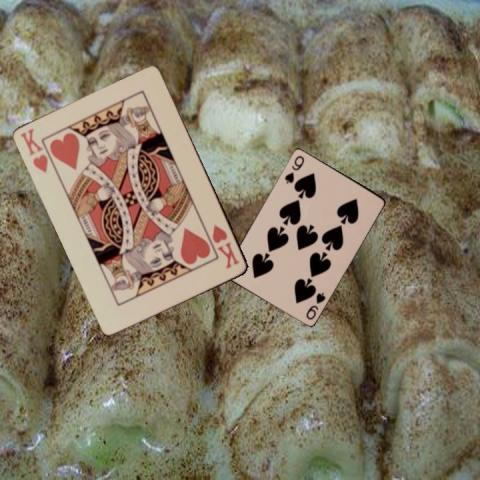9s: (281, 152, 306, 185), (302, 289, 326, 321)
Kh: (17, 125, 50, 176), (210, 221, 242, 271)
